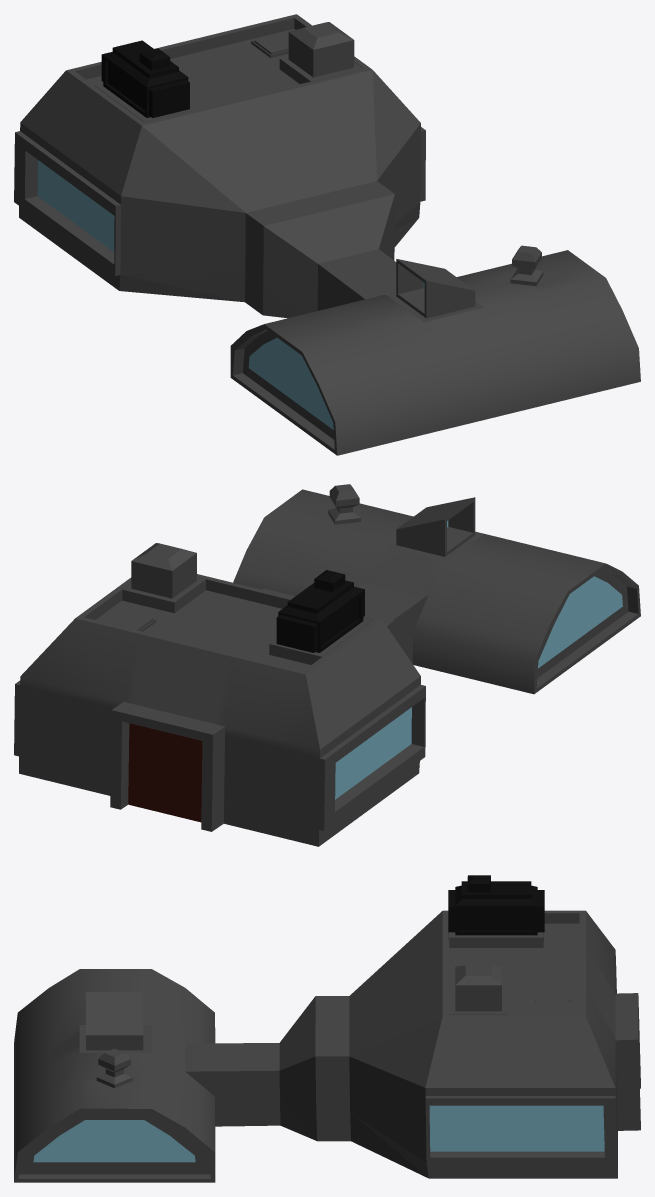
Rendered from MillitaryBase2.FBX.
3 views of the same model, one above another, from view 1: azimuth 30°, elevation 25°; view 2: azimuth 150°, elevation 25°; view 3: azimuth 270°, elevation 25° (orthographic). The views are drawn at different scales.
Parts seen in each view (by area): view 1: Cylinder001; view 2: Cylinder001; view 3: Cylinder001.
Boxes of the visible parts, x1,y1,x2,y2 form: Cylinder001: (14,14,640,455); Cylinder001: (14,484,640,846); Cylinder001: (14,875,640,1182).
Size of the model in its own units: 243 by 155 by 451.
